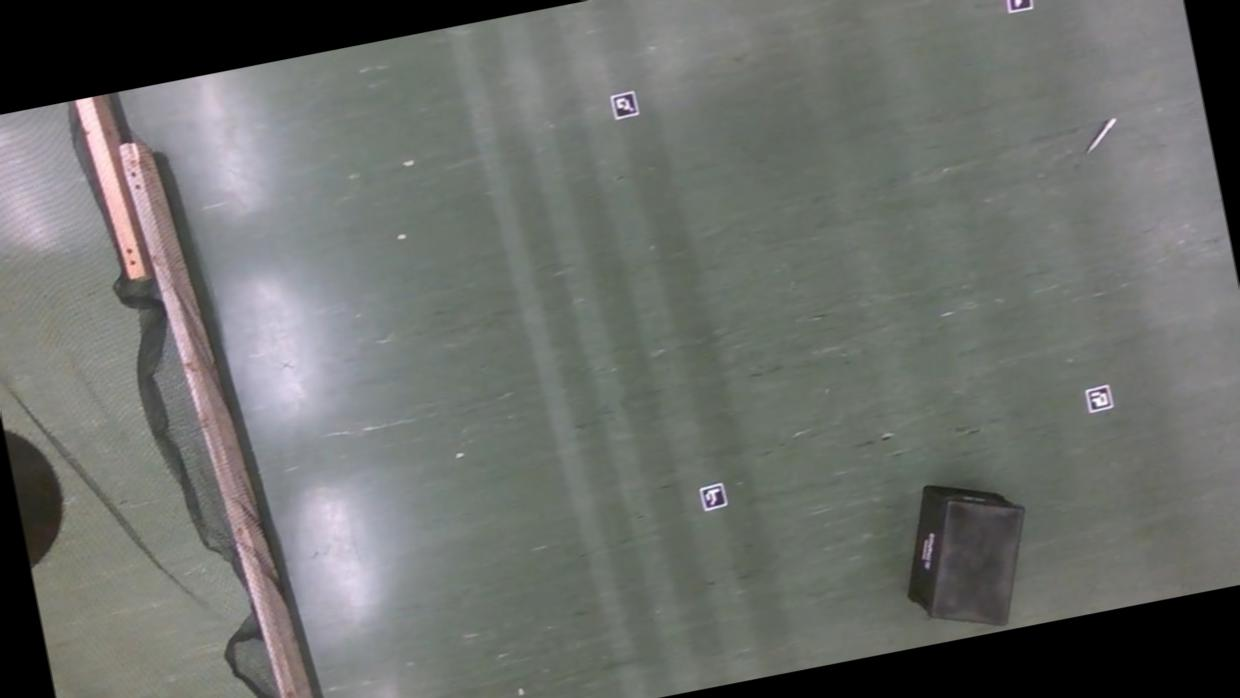probes: (1078, 113, 1126, 157)
rako: (882, 470, 1048, 642)
